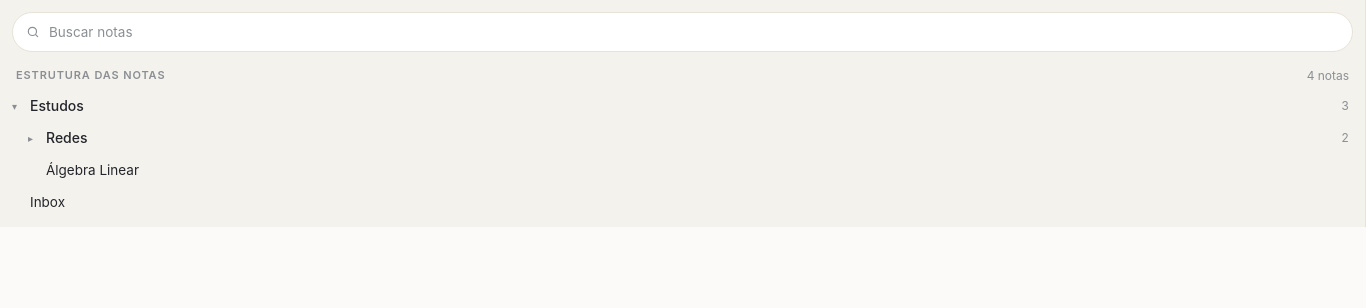
it: BarraLateral › abre e fecha uma pasta ao clicar nela
Click the button "▸ Redes 2". click: (67,138)
box: x1=8 y1=122 x2=1357 y2=154
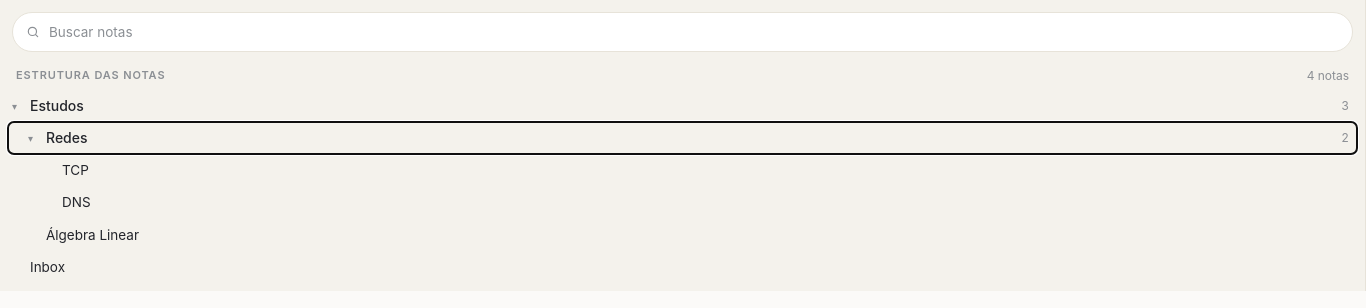
expect the text "TCP" is shown: met, box x1=62 y1=160 x2=89 y2=180
Click the button "▾ Redes 2". click: (67,138)
box: x1=8 y1=122 x2=1357 y2=154
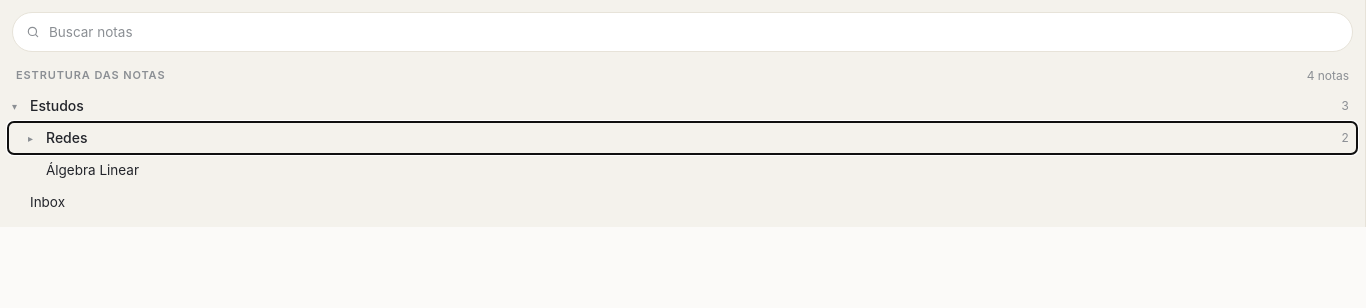
expect the button "TCP" is gone: met
